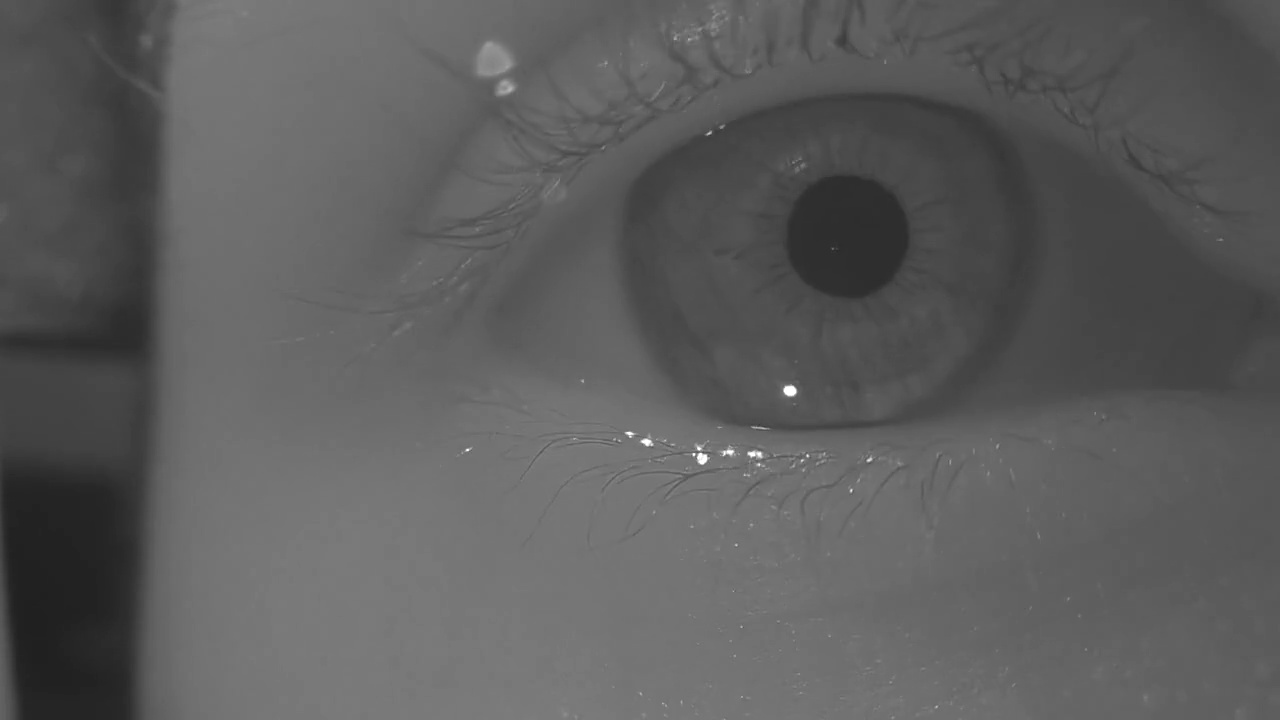pupil: (787, 175, 908, 298)
